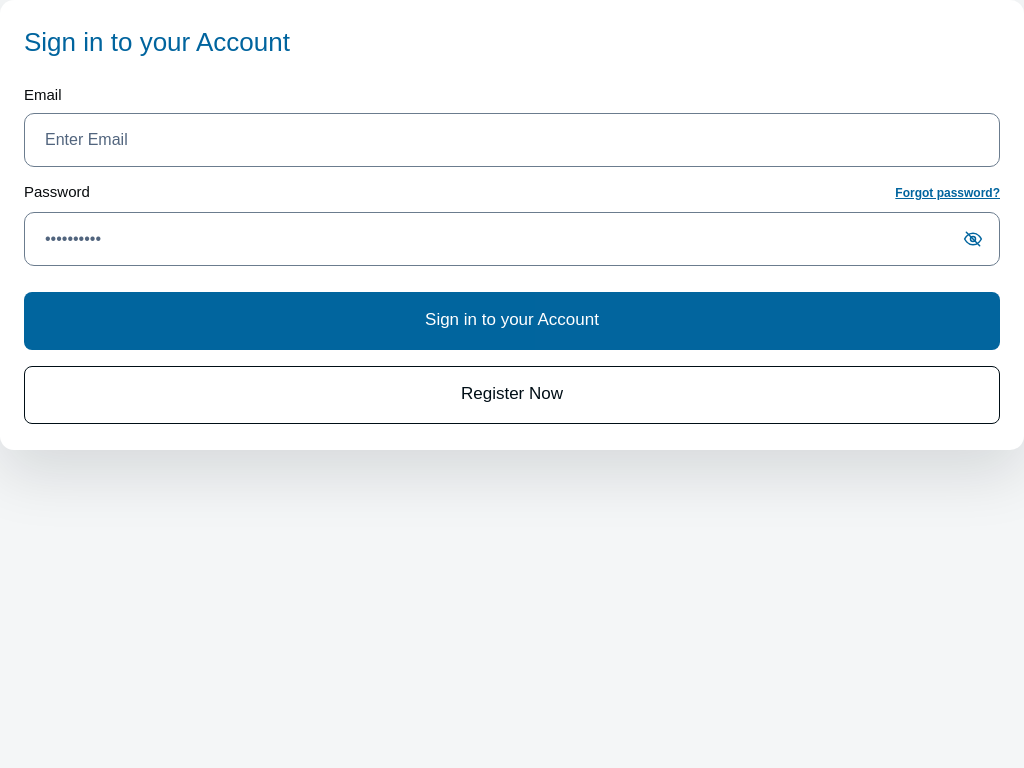
HomeSignIn component › displays credential errors and allows retry: {}
The width and height of the screenshot is (1024, 768).
Type "borrower@example.com" into the field labelled "Email" at (512, 140), box 24,113 -> 1000,167
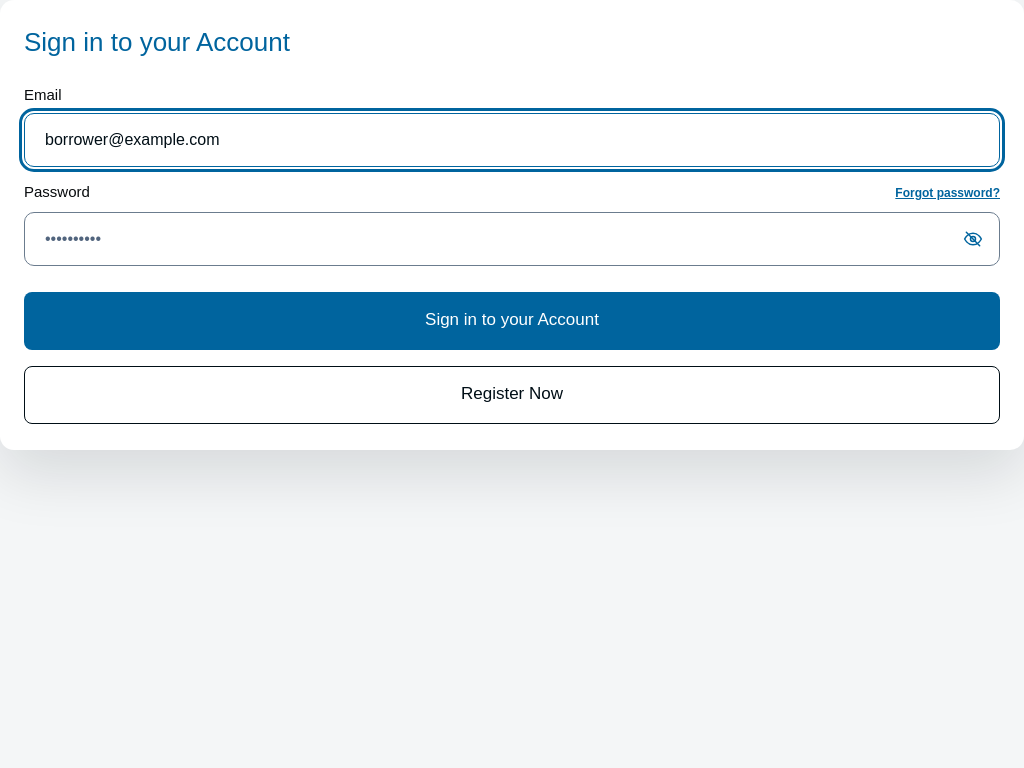
Type "BorrowerPassword123!" into the password field labelled "Password" at (512, 239), box 24,212 -> 1000,266
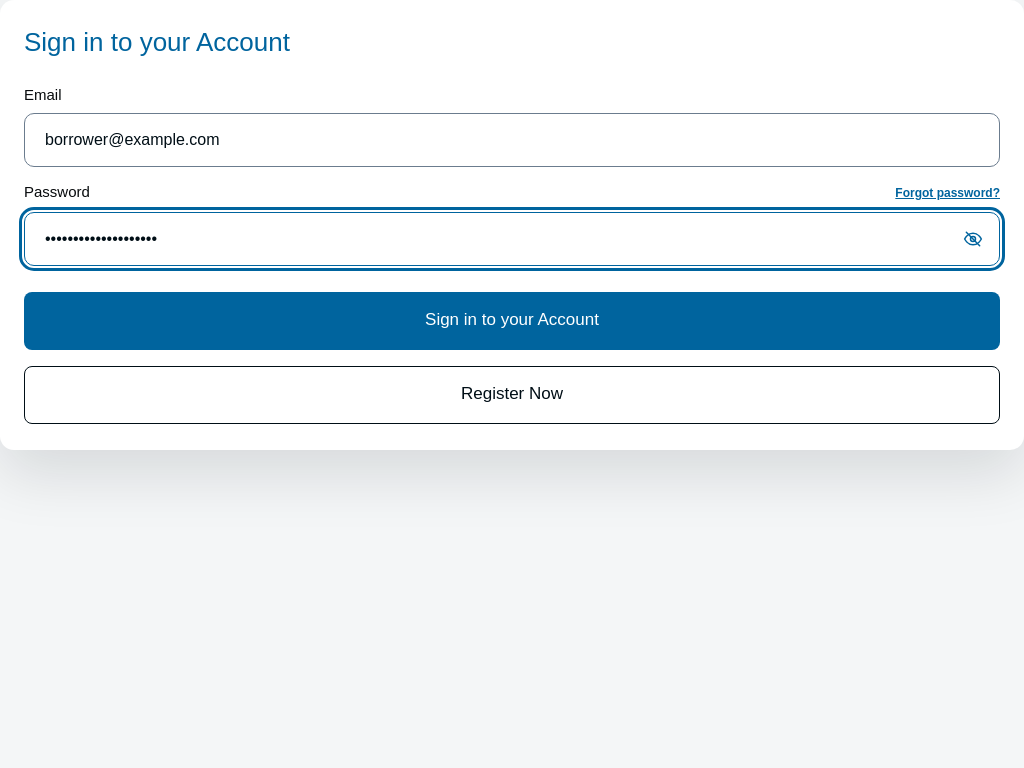
Click the button "Sign in to your Account" at (512, 321), box 24,292 -> 1000,350
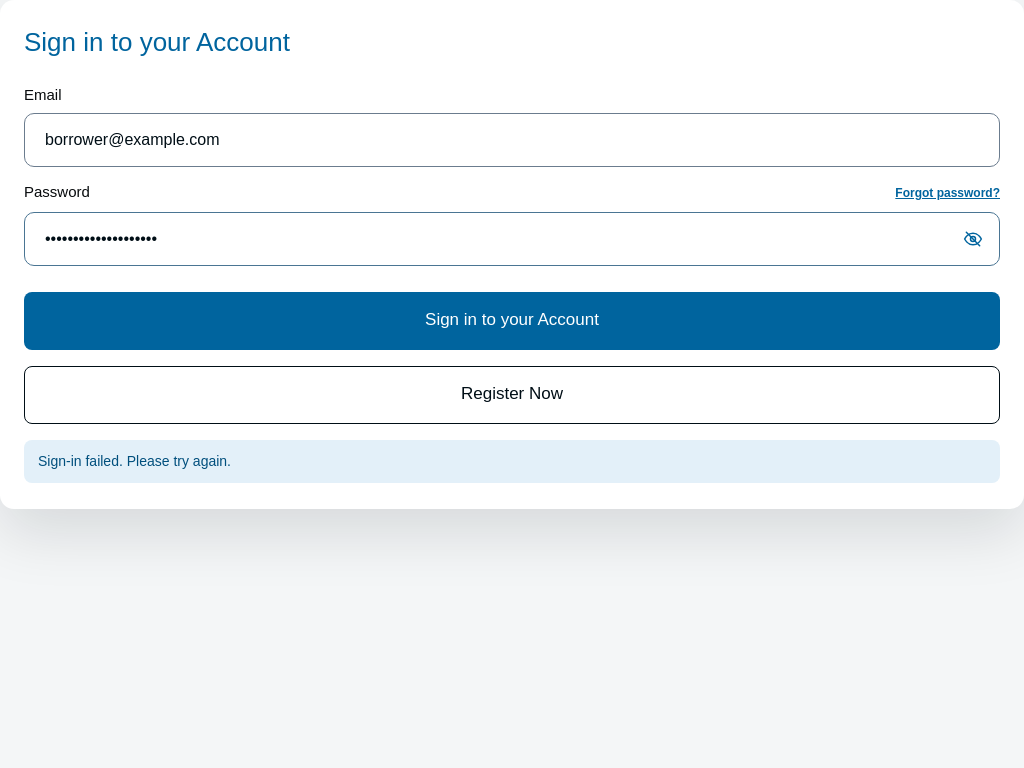
Expected: the message reads "Sign-in failed. Please try again.", 38,453 -> 231,469
